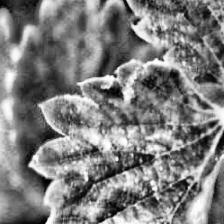Powdery Mildew Leaf: (9, 57, 224, 224), (120, 0, 224, 96)
